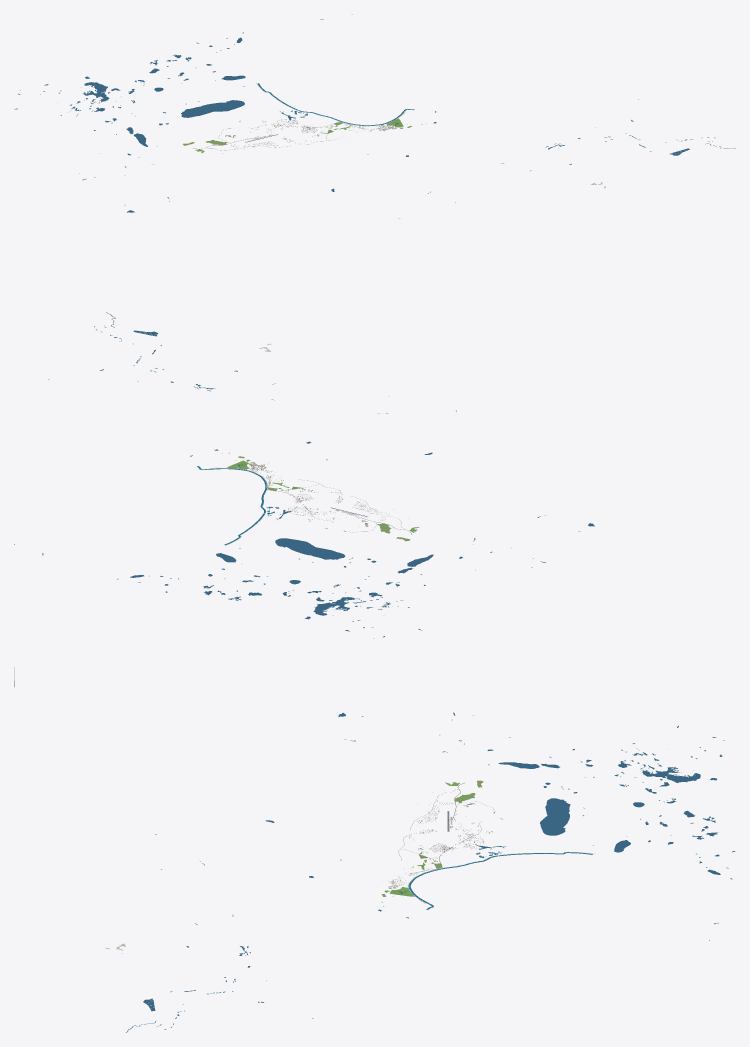
File: land.glb
The picture shows the model from 3 angles, top to bottom: view 1: azimuth 30°, elevation 25°; view 2: azimuth 150°, elevation 25°; view 3: azimuth 270°, elevation 25°; orthographic projection. The views are drawn at different scales.
Parts seen in each view (by area): view 1: decal-ponds; view 2: decal-ponds; view 3: decal-ponds.
Boxes of the visible parts, x1,y1,x2,y2 form: decal-ponds: (14,14,735,218); decal-ponds: (14,312,594,638); decal-ponds: (126,712,735,1032).
Bounding box in the file's own units: 133446 × 9611 × 127061.
